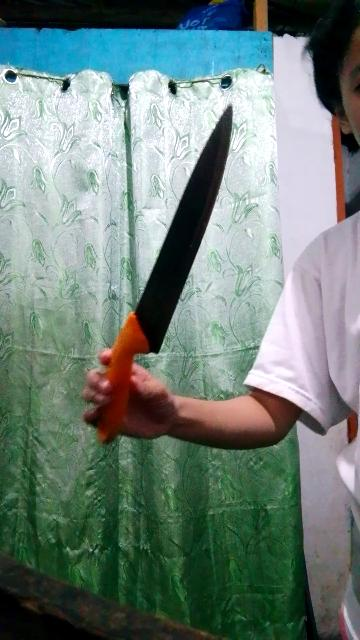long knife: (94, 101, 236, 465)
